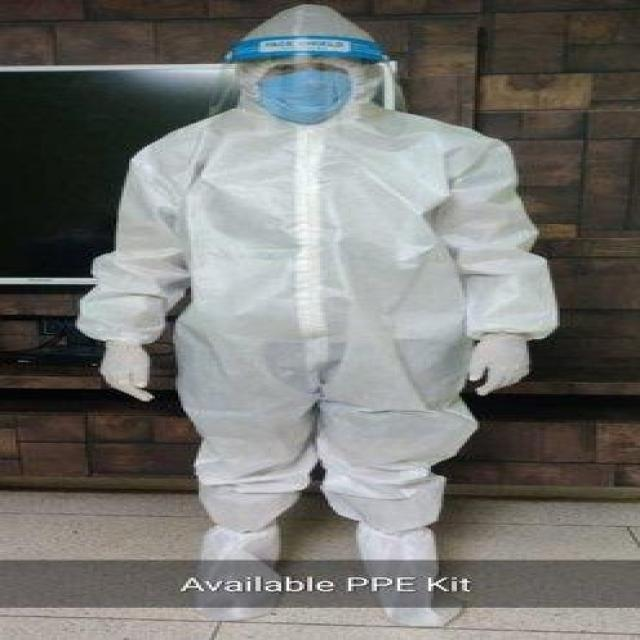Coverall: (42, 7, 545, 625)
Gloves: (457, 314, 573, 426), (88, 341, 212, 424)
Mask: (258, 71, 413, 125)
